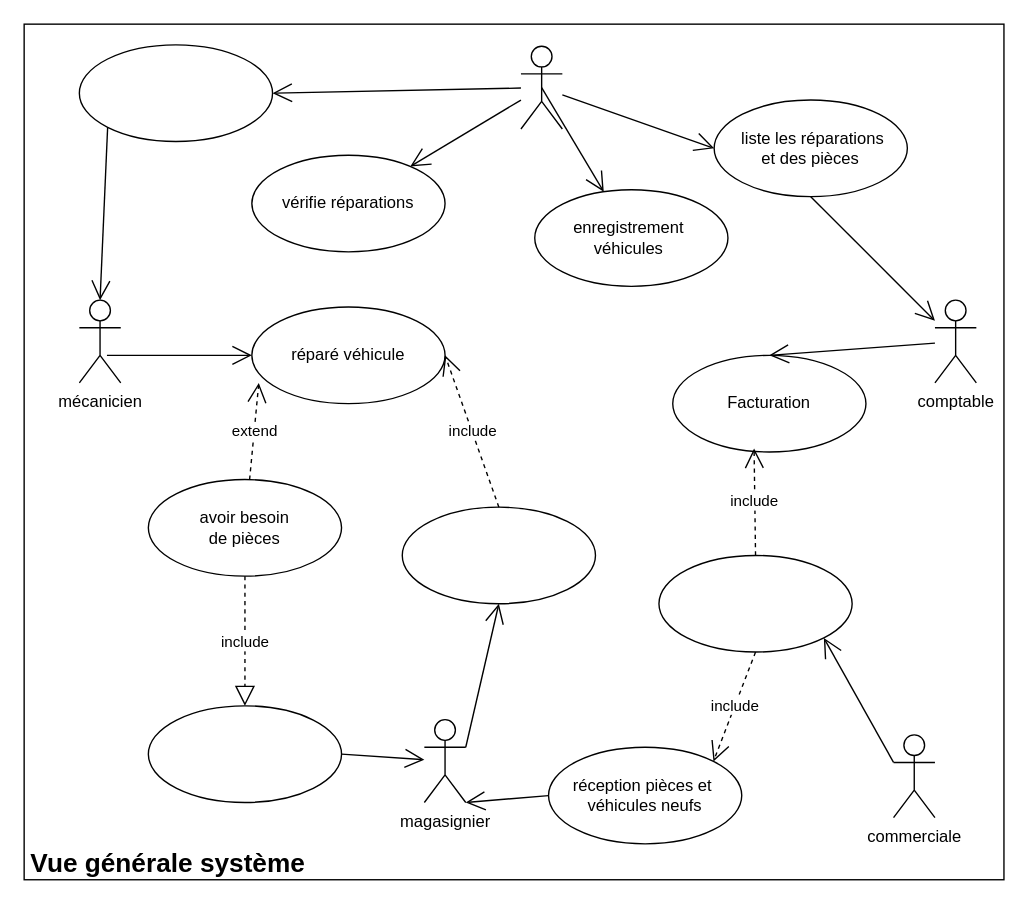
The diagram is 1028 pixels wide and 907 high, and some of its shapes have lost their labels. The shapes that lost their labels are listed below. From the top down, each one's box as (x1, y1, x2, y2) in pixels, then its label:
(78, 43, 273, 141): designer mécanicien
(520, 45, 562, 129): chef d'atelier
(401, 506, 595, 604): fournir pièces
(658, 554, 852, 652): vendre nouveaux véhicules
(147, 704, 342, 802): demande pièces
